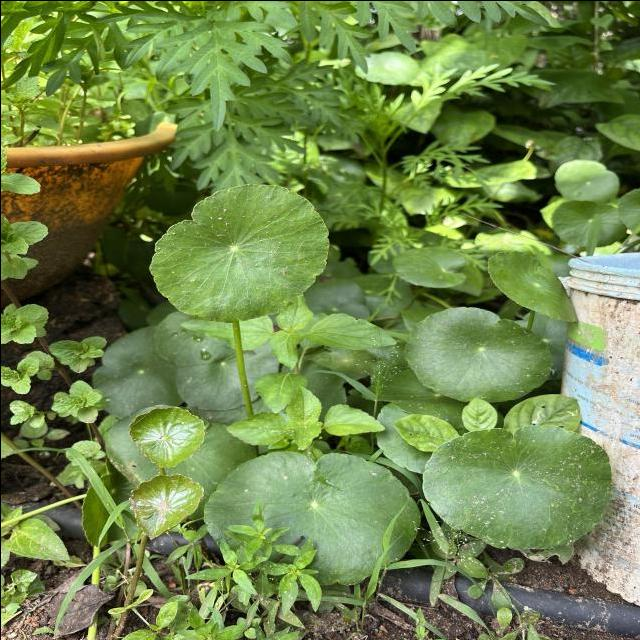Bacopa monnieri: (146, 180, 332, 324), (419, 421, 614, 552), (400, 304, 554, 404), (484, 248, 578, 323), (126, 470, 204, 540), (125, 403, 207, 469)
